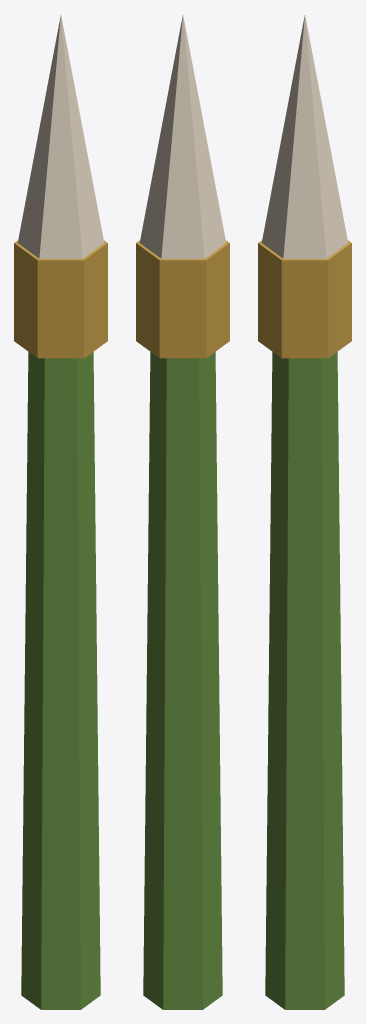
File: prop_brush_dry.glb
3 views of the same model, side by side, from view 1: azimuth 90°, elevation 25°; view 2: azimuth 150°, elevation 25°; view 3: azimuth 270°, elevation 25° (orthographic).
Visible parts, largest first — view 1: prop_brush_dry; view 2: prop_brush_dry; view 3: prop_brush_dry.
Boxes of the visible parts, bbox=[...] form: prop_brush_dry: bbox=[14, 15, 107, 1009]; prop_brush_dry: bbox=[136, 15, 229, 1009]; prop_brush_dry: bbox=[258, 15, 351, 1009].
Bounding box in the file's own units: 0.0225 × 0.3 × 0.026.
